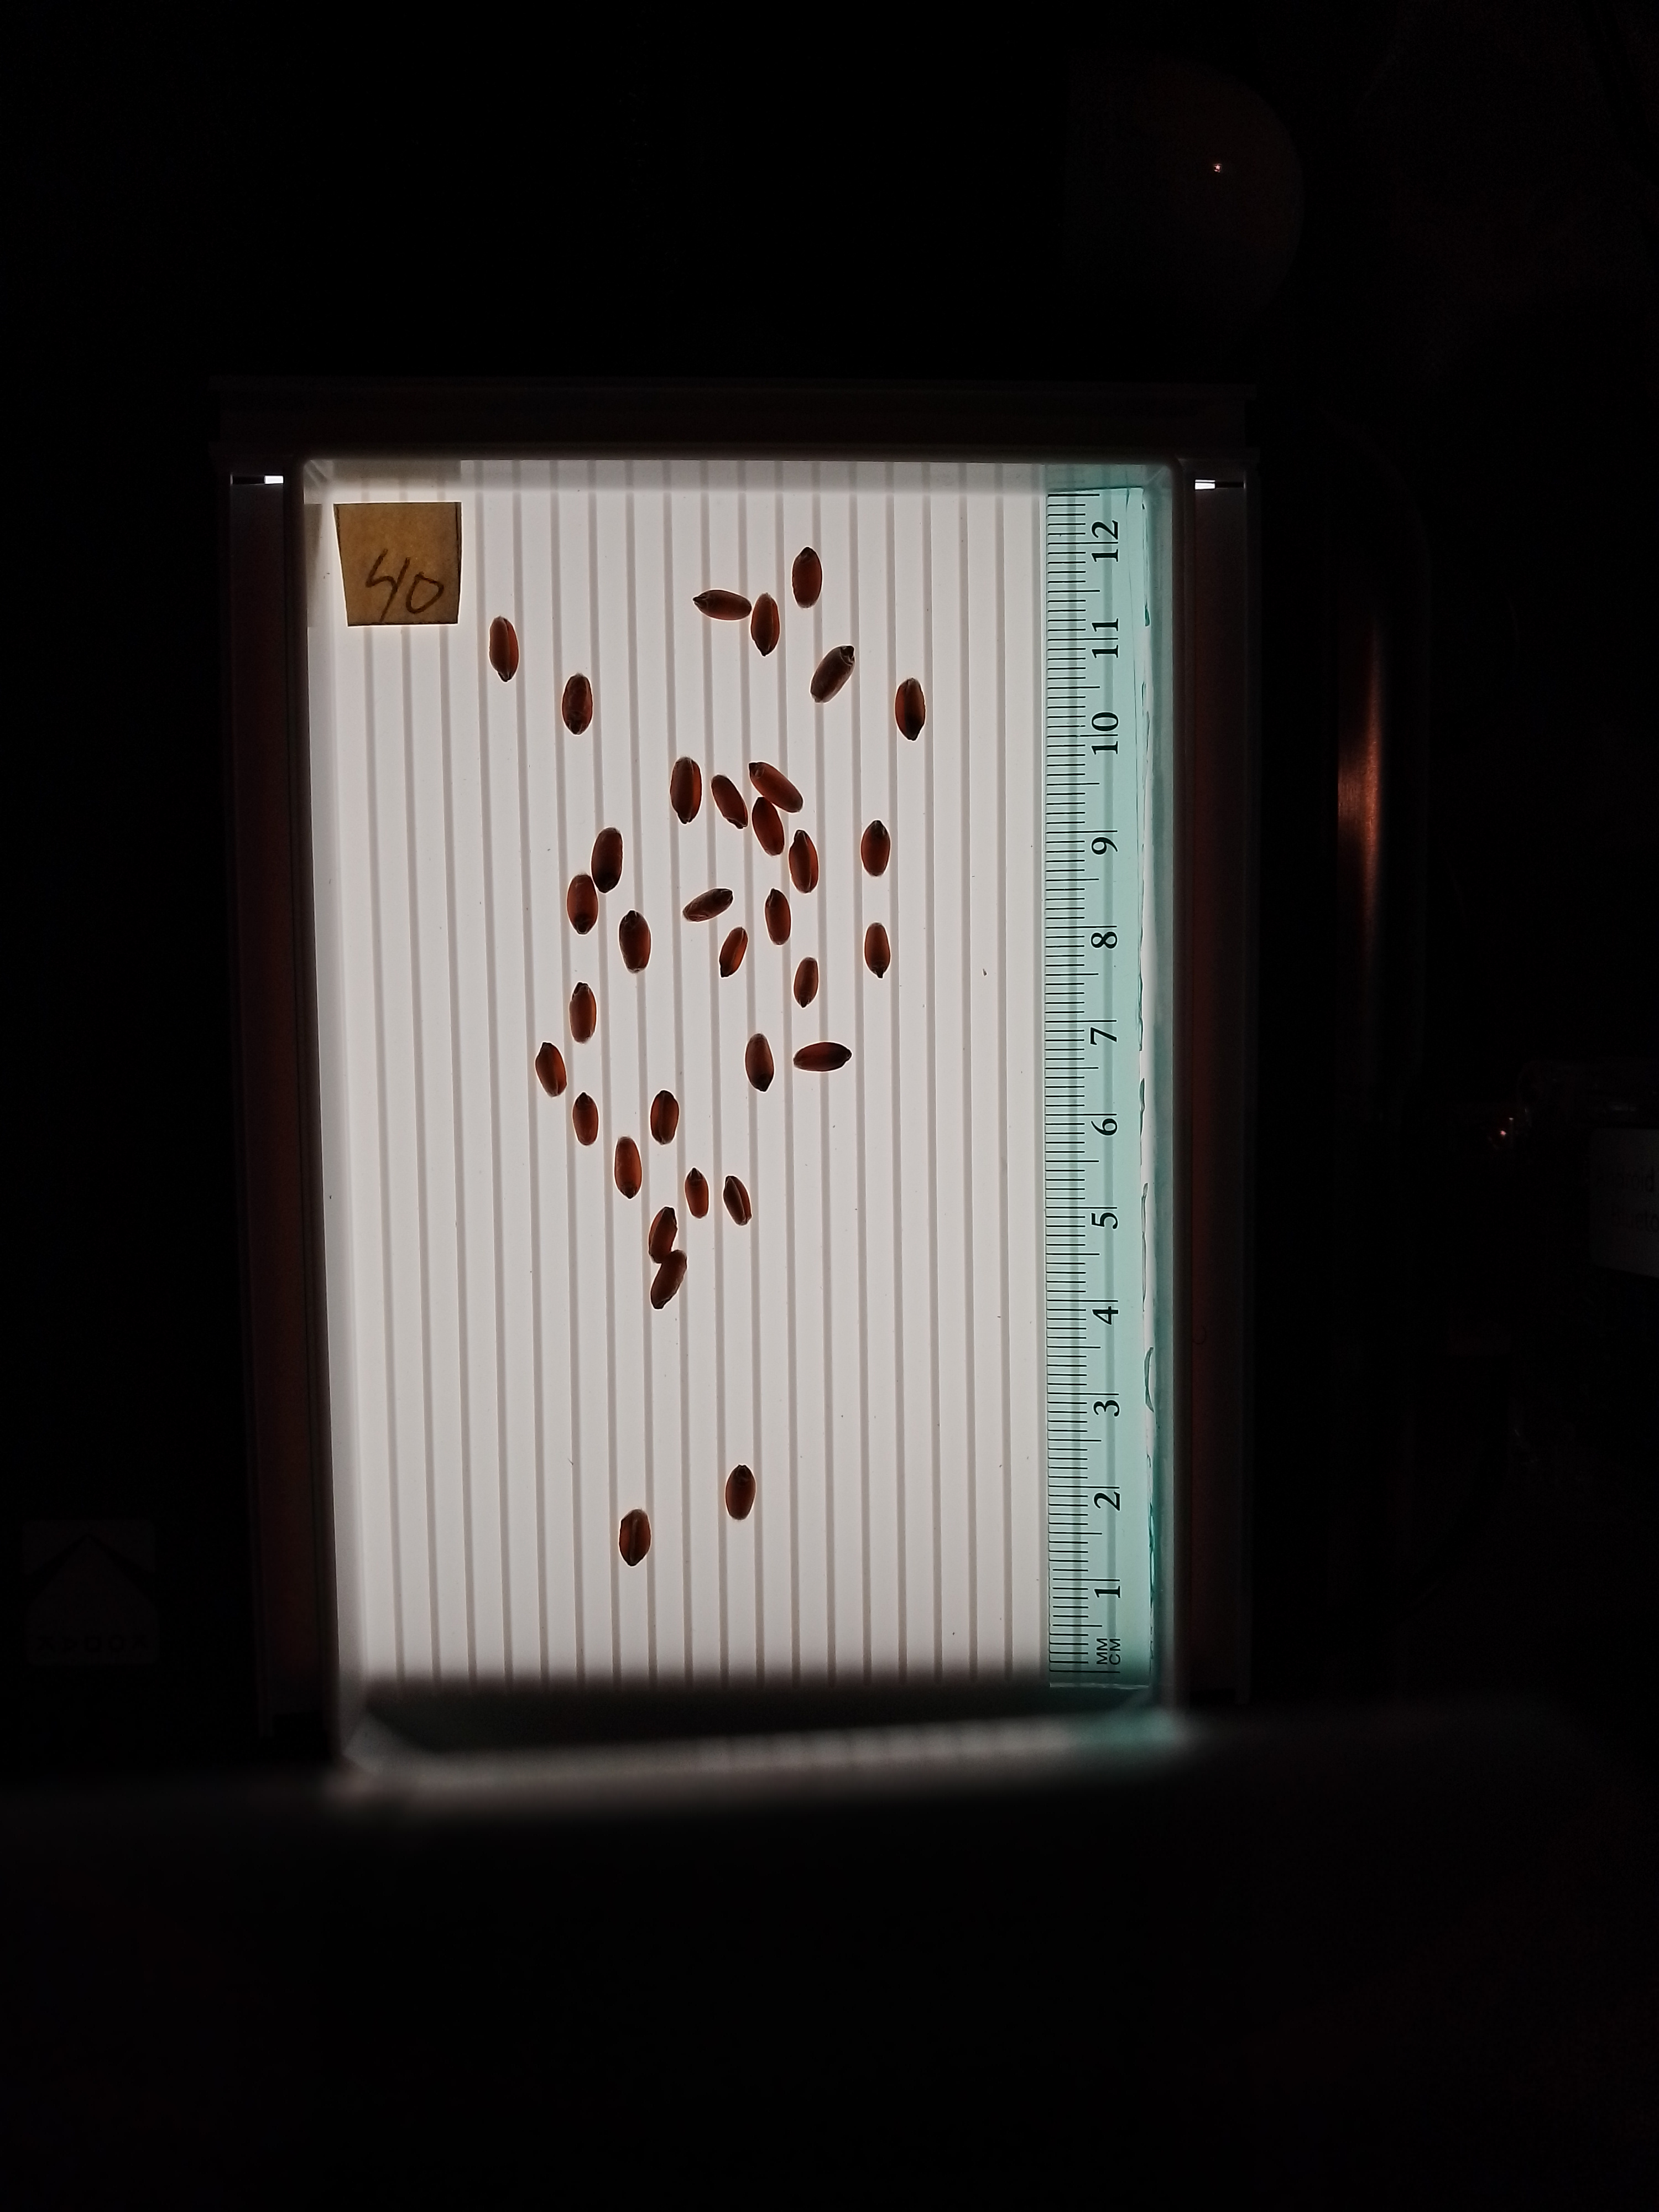seed mask: (748, 761, 803, 813), (810, 646, 854, 702), (650, 1247, 687, 1308), (617, 911, 652, 974), (711, 775, 749, 829), (671, 758, 701, 826), (488, 617, 519, 679), (592, 829, 624, 892), (896, 679, 927, 740), (786, 831, 817, 892), (563, 674, 592, 737), (753, 796, 784, 855), (568, 874, 599, 934), (681, 888, 734, 923), (793, 547, 823, 608), (751, 594, 781, 655), (694, 589, 751, 620), (861, 820, 892, 878), (535, 1043, 568, 1097), (619, 1512, 652, 1566), (613, 1137, 643, 1197), (742, 1035, 774, 1090), (791, 1043, 850, 1071), (568, 984, 596, 1043), (648, 1207, 678, 1263), (725, 1467, 756, 1519), (650, 1090, 678, 1146), (721, 1176, 753, 1224), (765, 888, 791, 946), (864, 923, 890, 977), (793, 958, 819, 1008), (720, 928, 746, 977), (573, 1092, 598, 1144), (687, 1170, 709, 1217)
